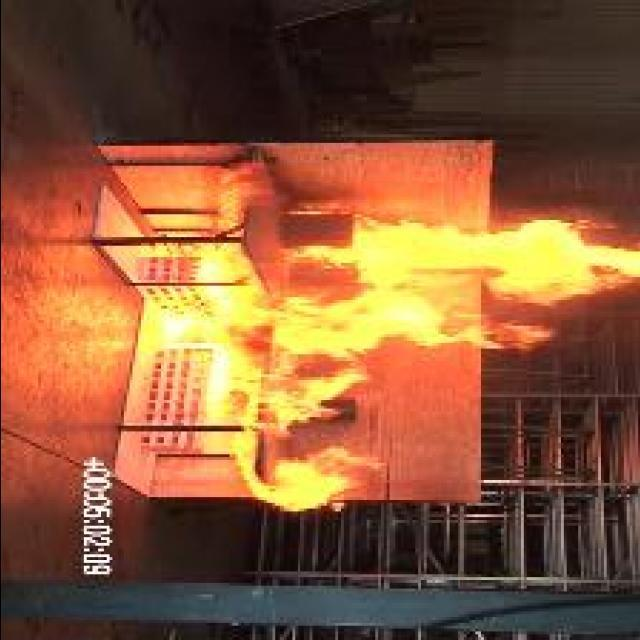Fire: (157, 162, 637, 509)
